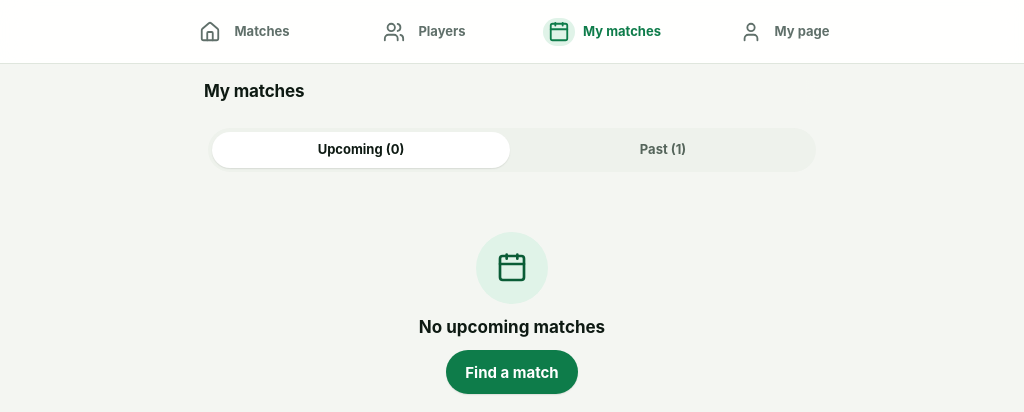
Test: cancelled after paying › shows the refund state on the My matches card
Click the tab "Past (1)" at x=663, y=150, box [514,132,812,168]
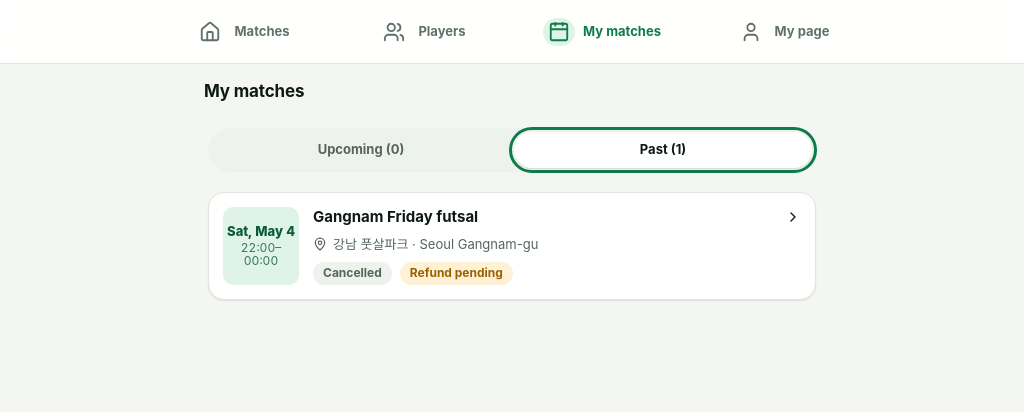
expect the text "Cancelled" is shown: met, box [313,262,392,285]
expect the text "Refund pending" is shown: met, box [400,262,513,285]
